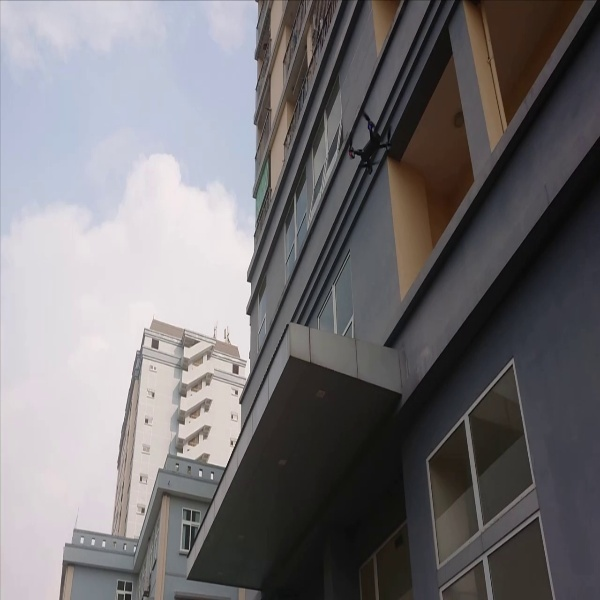drone: (342, 102, 400, 180)
